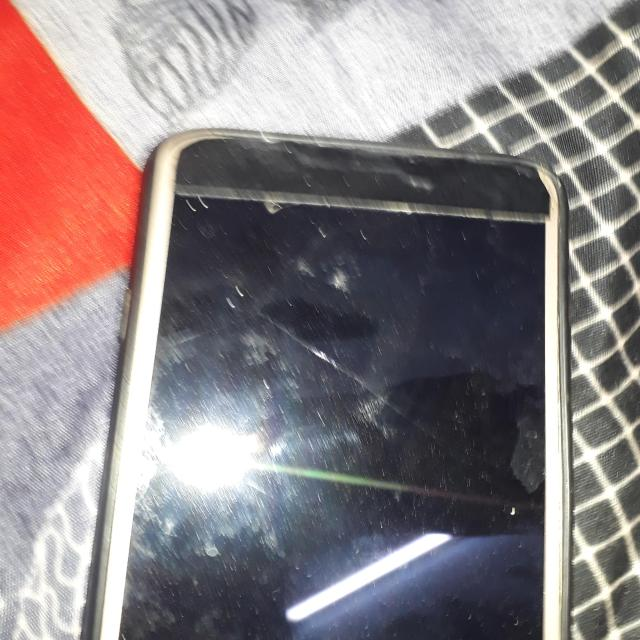mobile: (61, 119, 615, 639)
